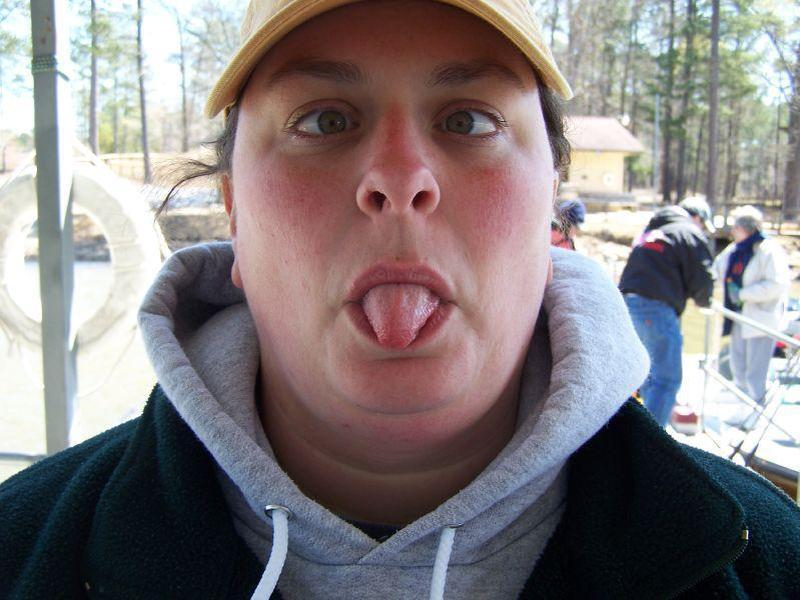person: (12, 1, 800, 600), (625, 188, 714, 424), (725, 200, 785, 426)
